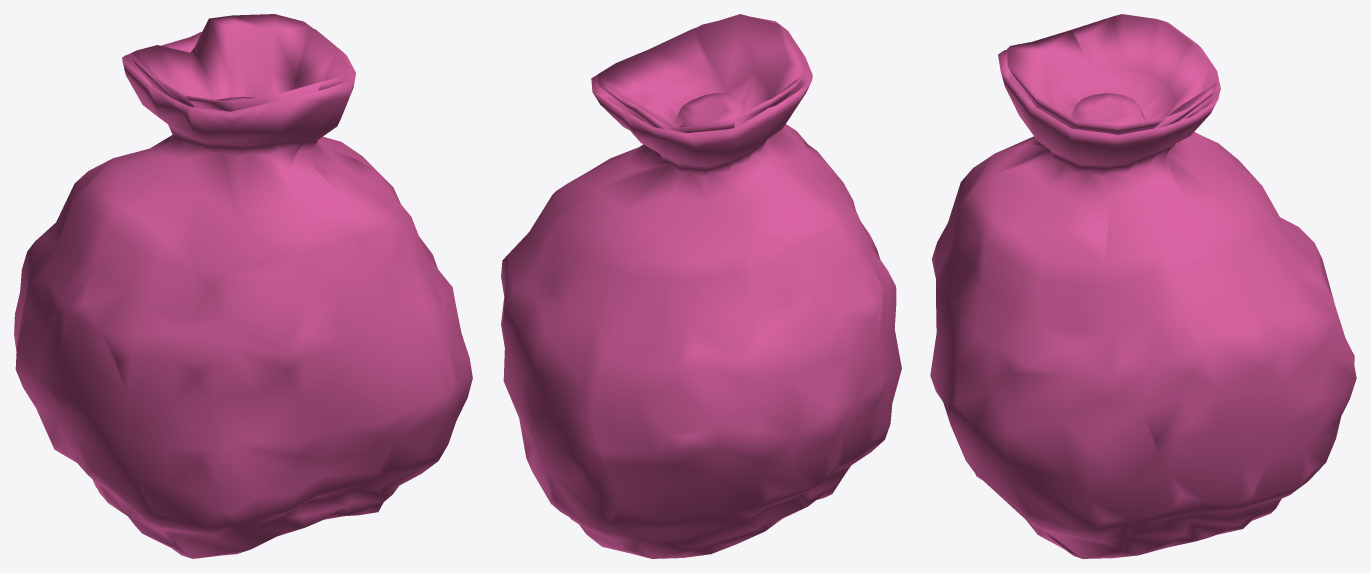
File: bolsa.glb
The picture shows the model from 3 angles, left to right: view 1: azimuth 30°, elevation 25°; view 2: azimuth 150°, elevation 25°; view 3: azimuth 270°, elevation 25°; orthographic projection. The views are drawn at different scales.
Parts seen in each view (by area): view 1: obj.001; view 2: obj.001; view 3: obj.001.
Boxes of the visible parts, x1,y1,x2,y2 form: obj.001: (14, 14, 472, 558); obj.001: (501, 14, 901, 558); obj.001: (930, 14, 1356, 558).
Bounding box in the file's own units: 3.84 × 4.59 × 3.9.
